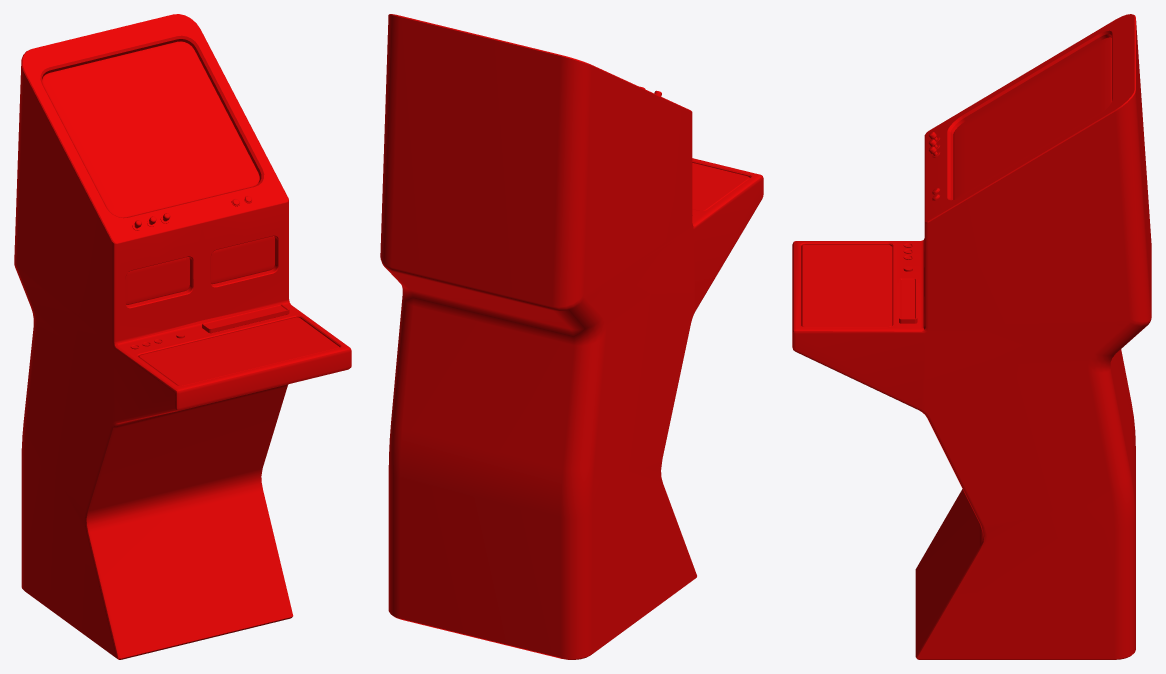
File: Equipment_5.fbx
The picture shows the model from 3 angles, left to right: view 1: azimuth 30°, elevation 25°; view 2: azimuth 150°, elevation 25°; view 3: azimuth 270°, elevation 25°; orthographic projection. The views are drawn at different scales.
Visible parts, largest first — view 1: polySurface15; view 2: polySurface15; view 3: polySurface15.
Part boxes in pixels (box(x1,y1,x2,y2)): polySurface15: box(14, 14, 351, 659); polySurface15: box(380, 14, 763, 659); polySurface15: box(792, 14, 1151, 659).
Bounding box in the file's own units: 55.04 × 158 × 91.79.
